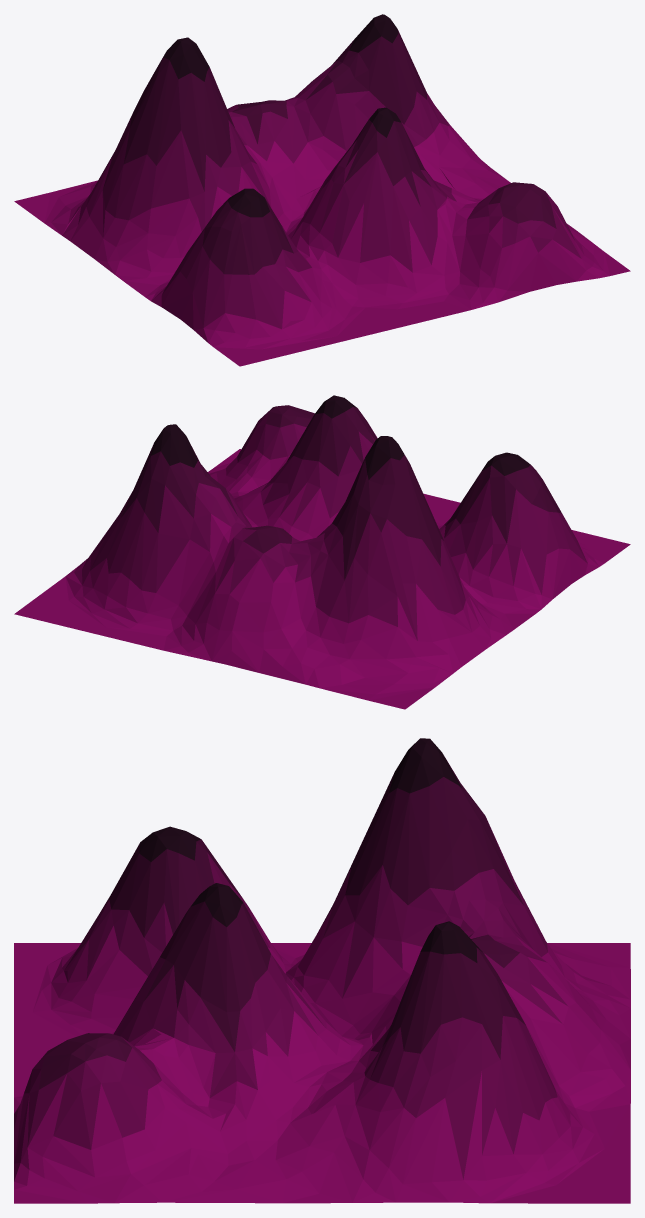
File: MountainsGroup1.fbx
The picture shows the model from 3 angles, top to bottom: view 1: azimuth 30°, elevation 25°; view 2: azimuth 150°, elevation 25°; view 3: azimuth 270°, elevation 25°; orthographic projection. The views are drawn at different scales.
Visible parts, largest first — view 1: Moutains1.001; view 2: Moutains1.001; view 3: Moutains1.001.
Part boxes in pixels (bbox=[...]): Moutains1.001: bbox=[14, 14, 630, 366]; Moutains1.001: bbox=[14, 395, 630, 709]; Moutains1.001: bbox=[14, 738, 630, 1203].
Bounding box in the file's own units: 20011 × 9509 × 20011.
